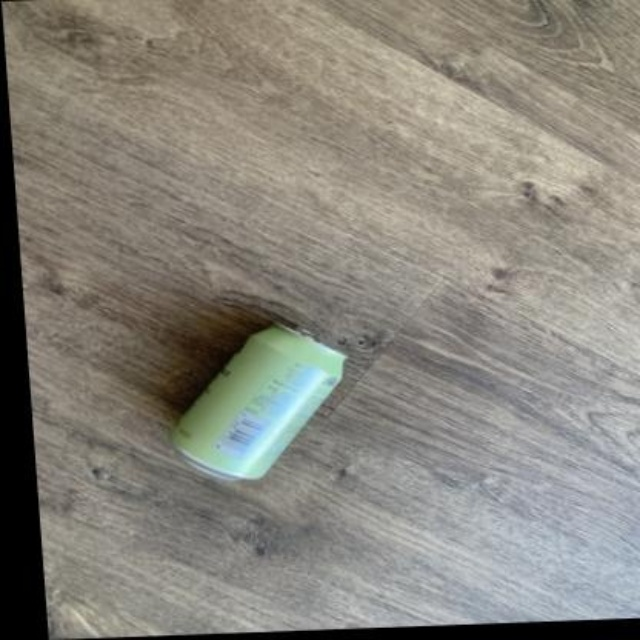trash: (172, 326, 343, 478)
